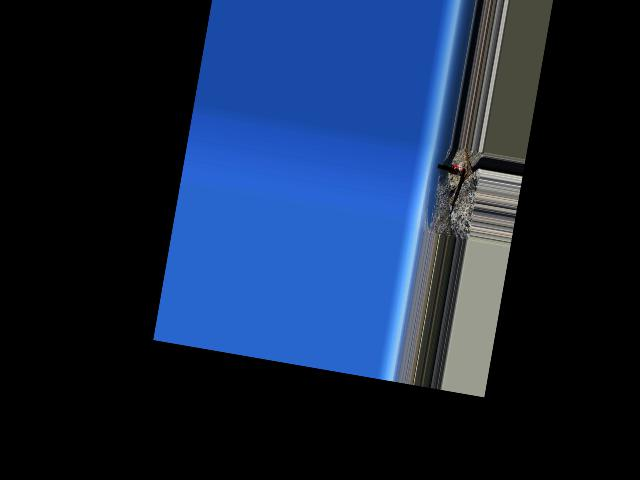beer: (436, 162, 465, 176)
